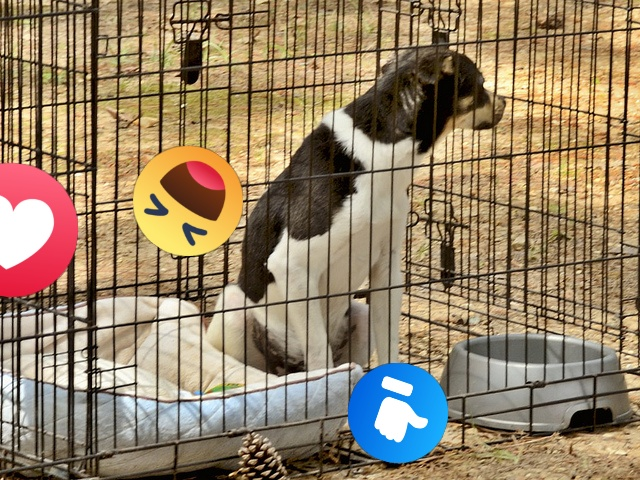haha: (133, 146, 243, 256)
like: (348, 363, 448, 463)
love: (0, 163, 78, 297)
